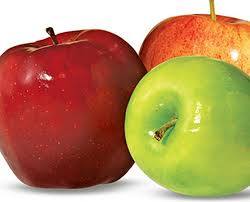apple: (3, 31, 145, 188), (126, 60, 250, 192), (142, 15, 250, 86)
